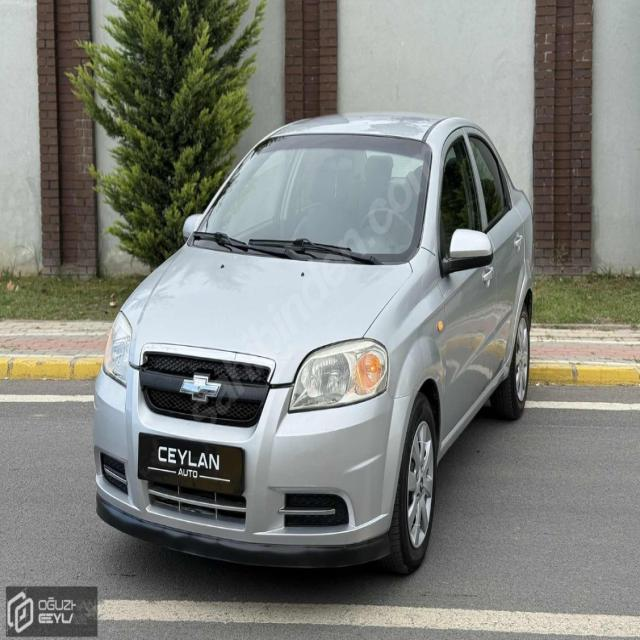chevrolet: (178, 372, 222, 406)
